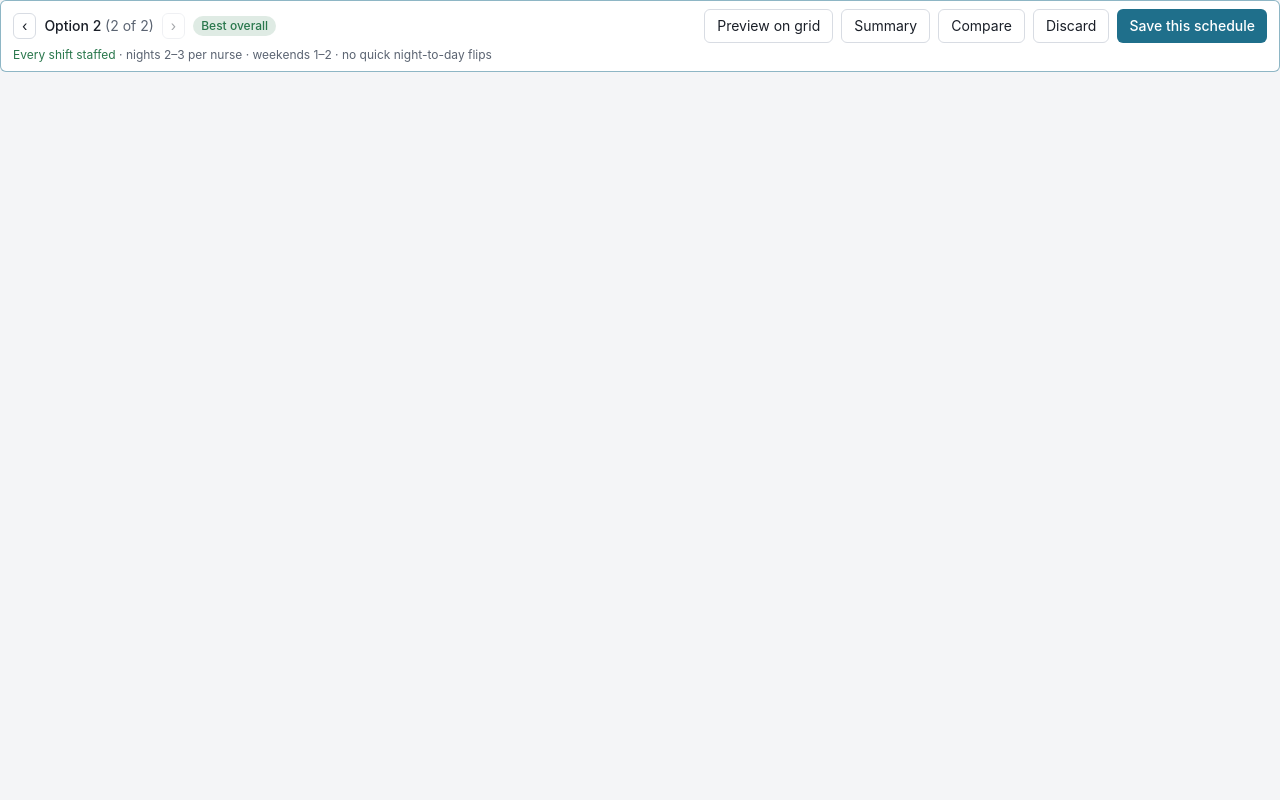
Scenario: saving the option the manager picked as the draft › keeps the draft when the manager backs out of the confirmation
The image size is (1280, 800).
Step 1. Click the button with test id "candidate-save" → (1192, 26), box [1117,9,1267,43]
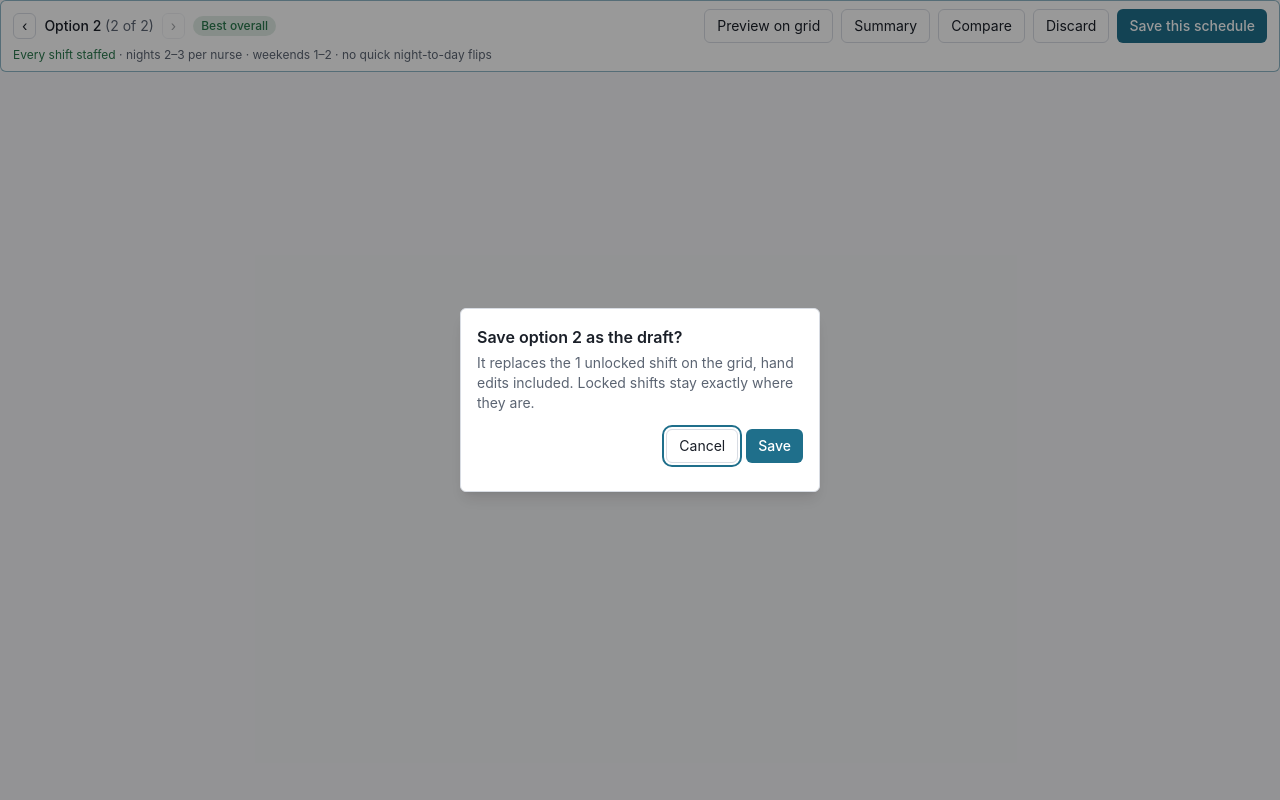
Check: the button with test id "confirm-accept" is shown, box [746,429,803,463]
Step 2. Click the button "Cancel" → (702, 446), box [666,429,738,463]
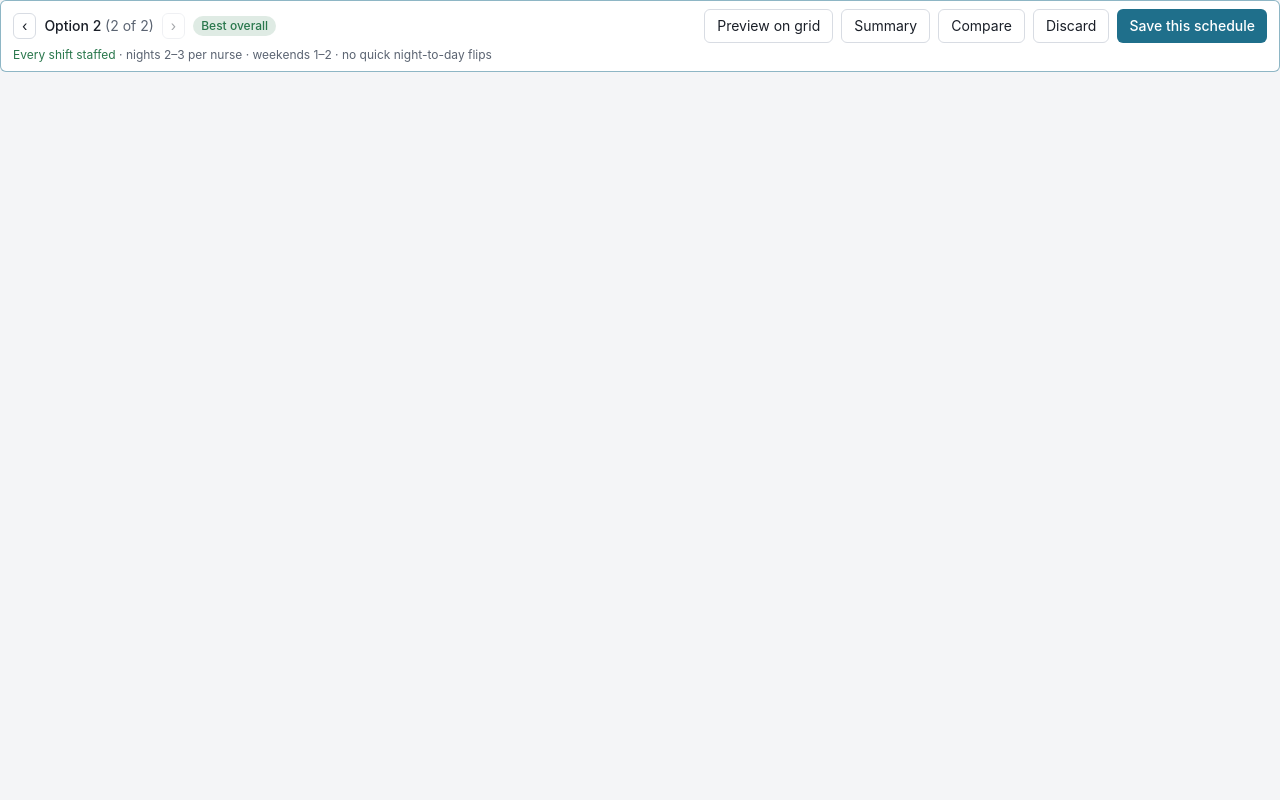
Check: the button with test id "confirm-accept" is gone
